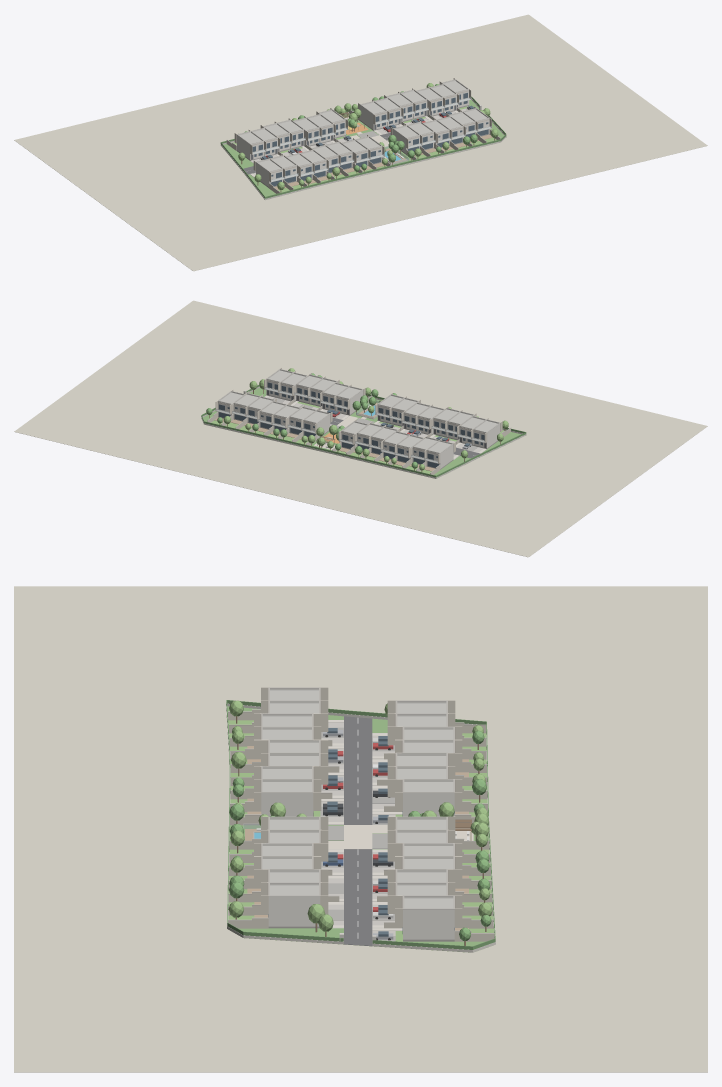
3 renders of one model, top to bottom at view 1: azimuth 30°, elevation 25°; view 2: azimuth 150°, elevation 25°; view 3: azimuth 270°, elevation 25°, orthographic. The views are drawn at different scales.
Parts seen in each view (by area): view 1: zemin__zemin, villa__duvar, villa__cakil, villa__cam, villa__harpusta, villa__perde, villa__duvar2, villa__korkuluk, agac__yaprak2, peyzaj__cit, peyzaj__ortak, peyzaj__perde (+4 smaller); view 2: zemin__zemin, villa__duvar, villa__cakil, villa__cam, villa__harpusta, villa__perde, villa__duvar2, villa__korkuluk, agac__yaprak2, peyzaj__cit, peyzaj__bahce_duv, peyzaj__perde (+5 smaller); view 3: zemin__zemin, villa__cakil, villa__duvar, villa__perde, peyzaj__perde, yol__asfalt, villa__harpusta, agac__yaprak2, peyzaj__cim, peyzaj__cit, peyzaj__parke, agac__yaprak (+7 smaller).
Part boxes in pixels (x1,y1,x2,y2): zemin__zemin: (14, 14, 707, 271); villa__duvar: (237, 79, 491, 186); villa__cakil: (239, 81, 487, 171); villa__cam: (252, 93, 488, 186); villa__harpusta: (237, 79, 489, 171); villa__perde: (234, 78, 491, 182); villa__duvar2: (252, 82, 489, 182); villa__korkuluk: (252, 97, 491, 181); agac__yaprak2: (238, 83, 498, 189); peyzaj__cit: (220, 96, 506, 198); peyzaj__ortak: (223, 100, 504, 196); peyzaj__perde: (226, 108, 500, 193); zemin__zemin: (14, 300, 707, 557); villa__duvar: (216, 369, 500, 468); villa__cakil: (220, 370, 497, 452); villa__cam: (219, 382, 485, 467); villa__harpusta: (218, 369, 500, 453); villa__perde: (215, 367, 502, 463); villa__duvar2: (218, 375, 486, 465); villa__korkuluk: (216, 387, 484, 462); agac__yaprak2: (223, 368, 508, 470); peyzaj__cit: (201, 385, 526, 477); peyzaj__bahce_duv: (201, 386, 526, 478); peyzaj__perde: (207, 396, 510, 474); zemin__zemin: (14, 586, 707, 1072); villa__cakil: (262, 690, 453, 908); villa__duvar: (261, 688, 454, 939); villa__perde: (254, 687, 462, 927); peyzaj__perde: (228, 710, 494, 941); yol__asfalt: (344, 716, 372, 946); villa__harpusta: (261, 687, 454, 909); agac__yaprak2: (228, 700, 492, 931); peyzaj__cim: (228, 720, 493, 952); peyzaj__cit: (226, 700, 495, 949); peyzaj__parke: (321, 722, 395, 935); agac__yaprak: (229, 731, 491, 940).
Size of the model in its own units: 244 by 7.75 by 147.
